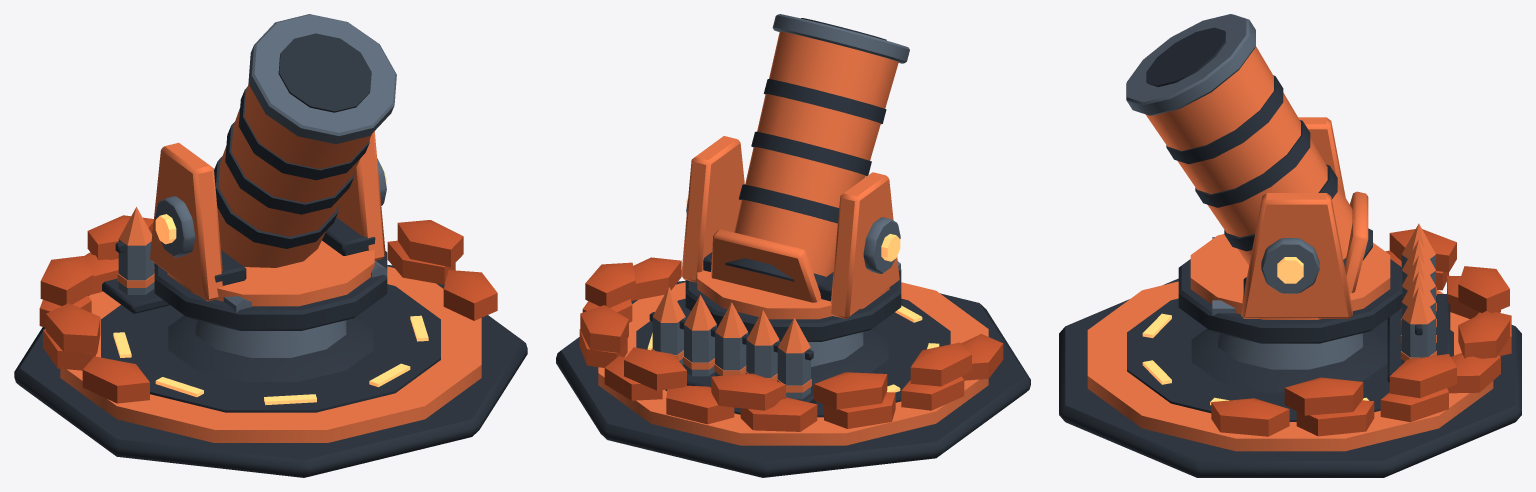
Rendered from mortar.glb.
The picture shows the model from 3 angles, left to right: view 1: azimuth 30°, elevation 25°; view 2: azimuth 150°, elevation 25°; view 3: azimuth 270°, elevation 25°; orthographic projection. The views are drawn at different scales.
Visible parts, largest first — view 1: base, kick_tube, turret; view 2: base, kick_tube, turret; view 3: base, kick_tube, turret.
Boxes of the visible parts, bbox=[...] form: base: bbox=[14, 207, 527, 477]; kick_tube: bbox=[214, 14, 396, 267]; turret: bbox=[150, 131, 387, 330]; base: bbox=[556, 257, 1030, 477]; kick_tube: bbox=[725, 14, 909, 283]; turret: bbox=[681, 136, 901, 341]; base: bbox=[1059, 223, 1521, 477]; kick_tube: bbox=[1126, 14, 1372, 265]; turret: bbox=[1178, 117, 1402, 343].
Bounding box in the file's own units: 14.78 × 12.54 × 14.78.
